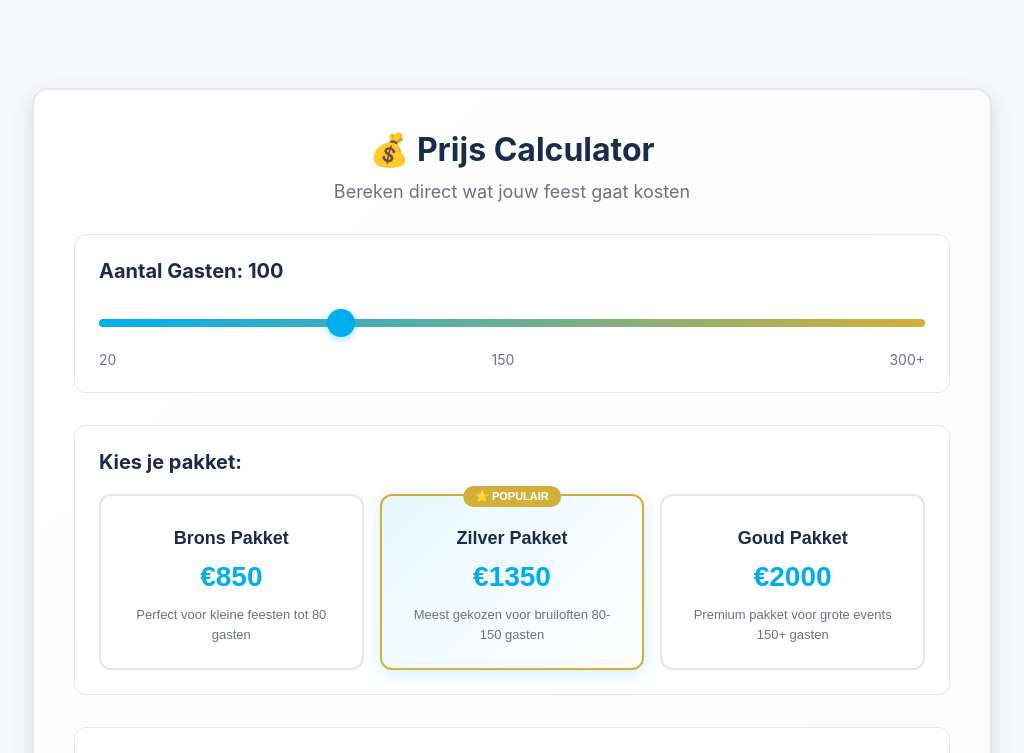
it: PriceCalculator › Guest count slider functionality › should update guest count when slider changes
Set the slider to "150". click: (483, 323)
box: [99,319,925,327]
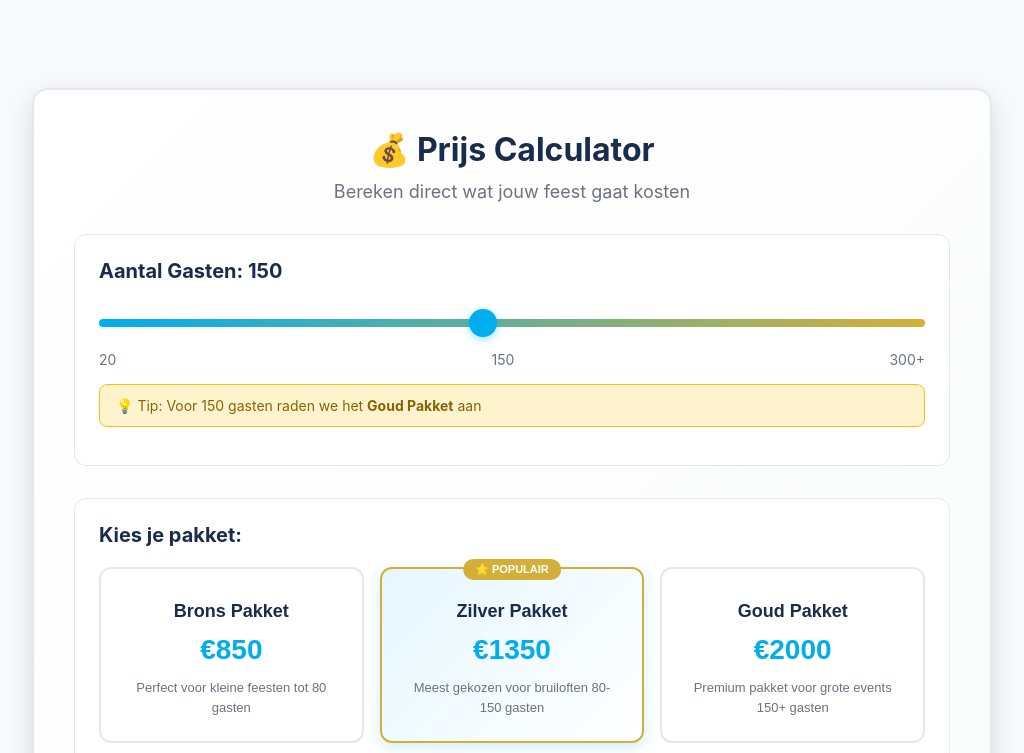
Expected: the text "Aantal Gasten: 150" is shown, [99,259,282,283]
